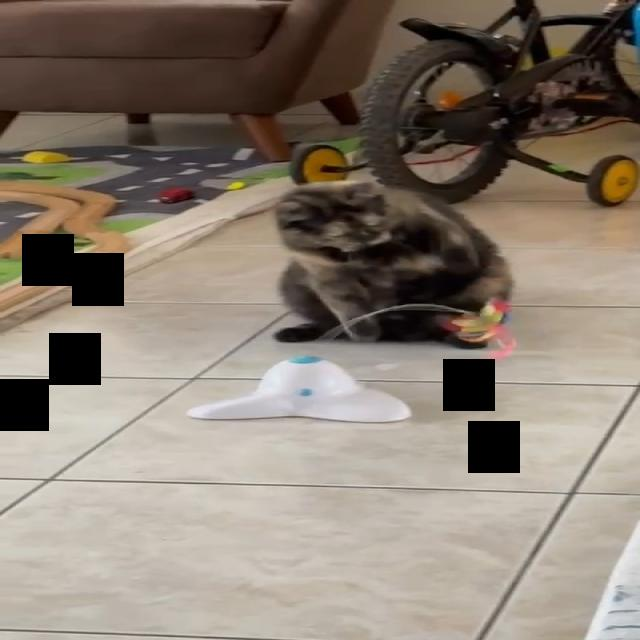authorized: (271, 180, 513, 350)
